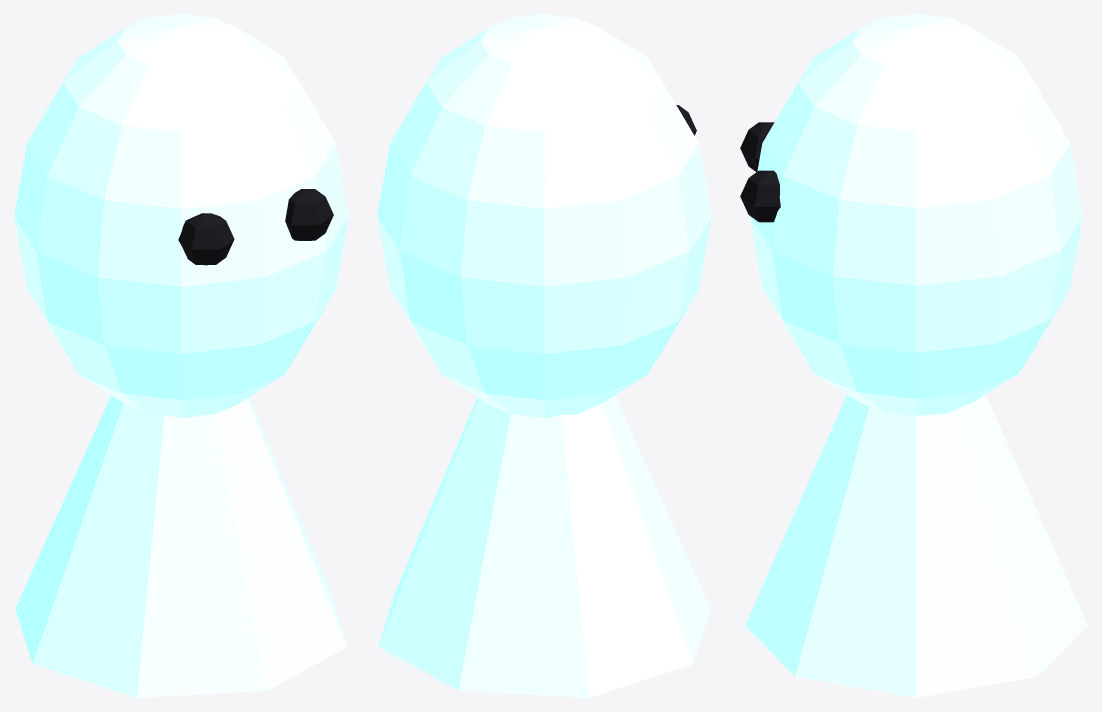
The model's file is prop-ghost.glb.
The picture shows the model from 3 angles, left to right: view 1: azimuth 30°, elevation 25°; view 2: azimuth 150°, elevation 25°; view 3: azimuth 270°, elevation 25°; orthographic projection.
Parts seen in each view (by area): view 1: cw_neon, cw_paint; view 2: cw_neon; view 3: cw_neon, cw_paint.
Boxes of the visible parts, x1,y1,x2,y2 form: cw_neon: (14,14,348,697); cw_paint: (178,189,333,265); cw_neon: (377,14,711,697); cw_neon: (745,14,1087,697); cw_paint: (740,122,780,222).
Bounding box in the file's own units: 0.72 × 1.39 × 0.73.
